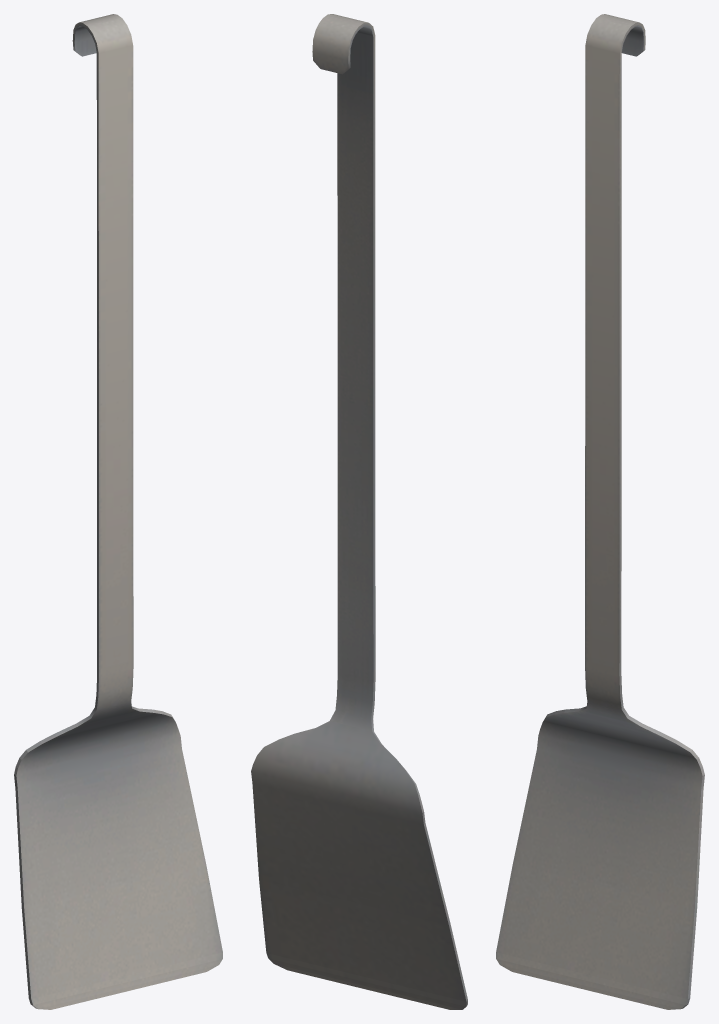
File: SM_Utensil_08.glb
3 renders of one model, left to right at view 1: azimuth 30°, elevation 25°; view 2: azimuth 150°, elevation 25°; view 3: azimuth 330°, elevation 25°, orthographic. The views are drawn at different scales.
Visible parts, largest first — view 1: SM_Utensil_08; view 2: SM_Utensil_08; view 3: SM_Utensil_08.
Boxes of the visible parts, x1,y1,x2,y2 form: SM_Utensil_08: [14, 14, 222, 1009]; SM_Utensil_08: [251, 14, 467, 1009]; SM_Utensil_08: [496, 14, 704, 1009].
Size of the model in its own units: 0.103 by 0.4861 by 0.0359.
1 material, 1 textured.
